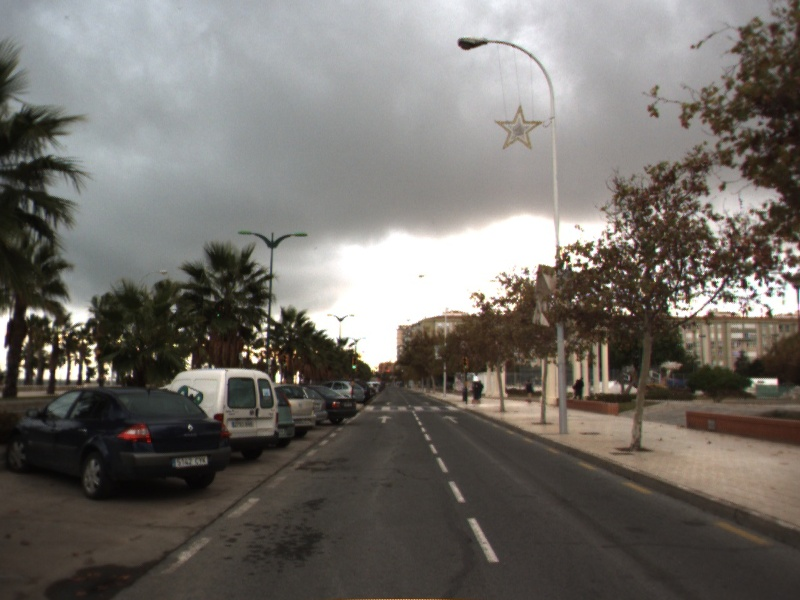STRAIGHT: (440, 413, 461, 425), (376, 414, 394, 425)
